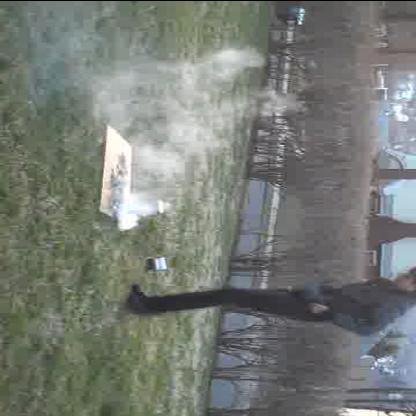Smoke: (121, 50, 254, 230)
